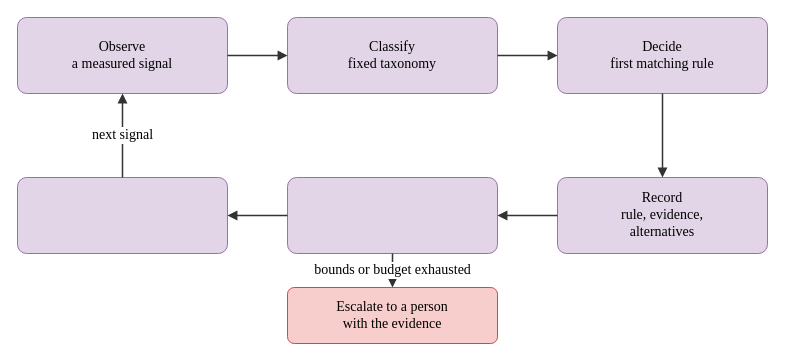
This 785x361 diagram has some shape labels left out. Here are the shapes that lost their labels. From the top down, the centre of each, then its label:
(x=122, y=215): Verify against a contract
(x=392, y=215): Act within bounds
